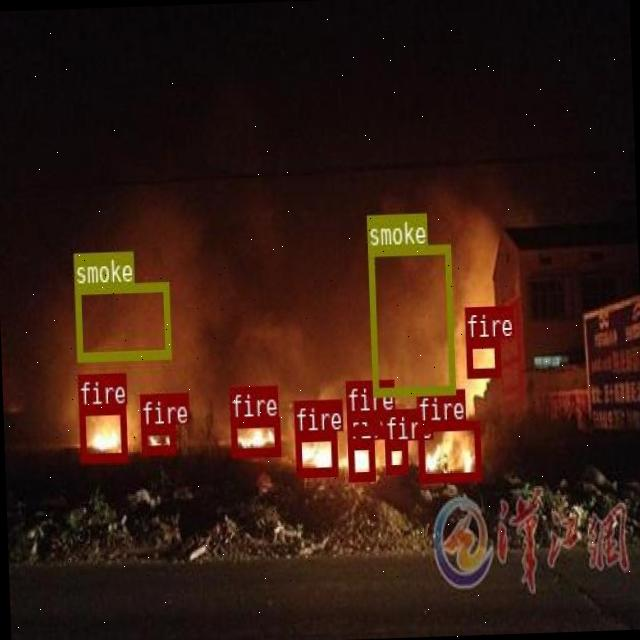fire: (416, 418, 480, 482), (78, 402, 127, 462), (230, 416, 280, 456), (295, 429, 336, 474), (465, 337, 500, 376), (346, 439, 374, 479), (140, 424, 174, 454), (346, 410, 378, 433), (384, 440, 406, 471)
smoke: (366, 243, 454, 394), (74, 280, 170, 358)
